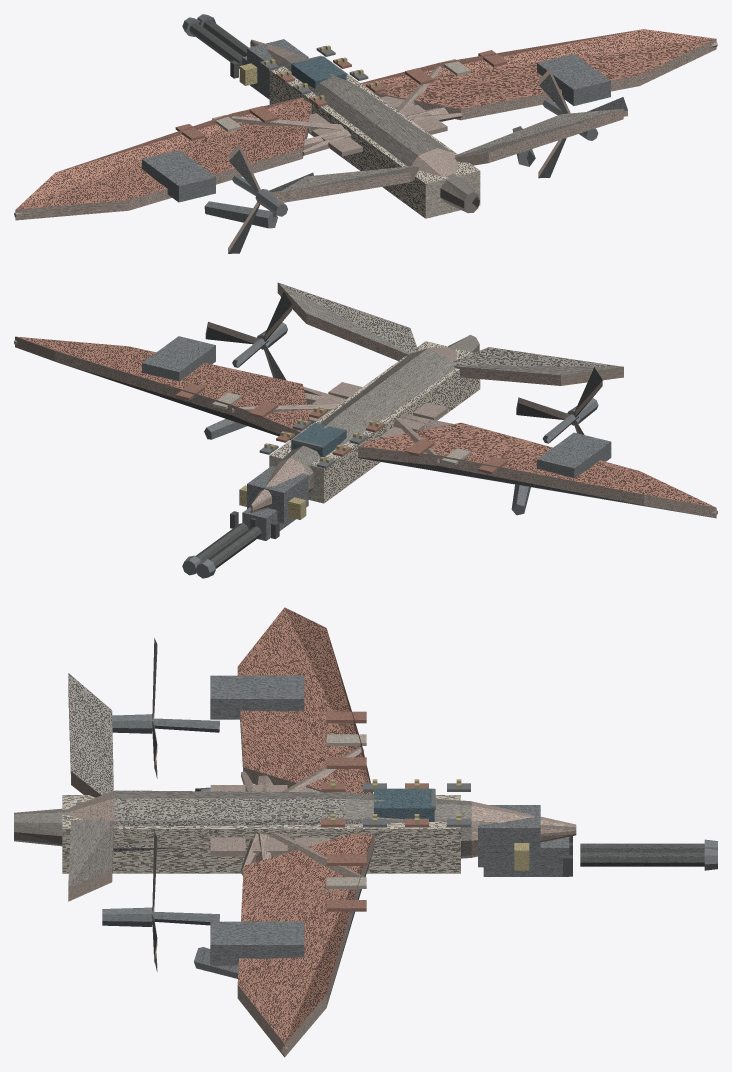
File: unraveled_needlewing.glb
3 renders of one model, top to bottom at view 1: azimuth 30°, elevation 25°; view 2: azimuth 150°, elevation 25°; view 3: azimuth 270°, elevation 25°, orthographic. The views are drawn at different scales.
Parts seen in each view (by area): view 1: unraveled_needlewing; view 2: unraveled_needlewing; view 3: unraveled_needlewing.
Boxes of the visible parts, <box> form: unraveled_needlewing: <box>14,14,717,253</box>; unraveled_needlewing: <box>14,282,717,578</box>; unraveled_needlewing: <box>14,607,717,1057</box>.
Size of the model in its own units: 10.35 by 1.62 by 7.04.
8 materials, 8 textured.
